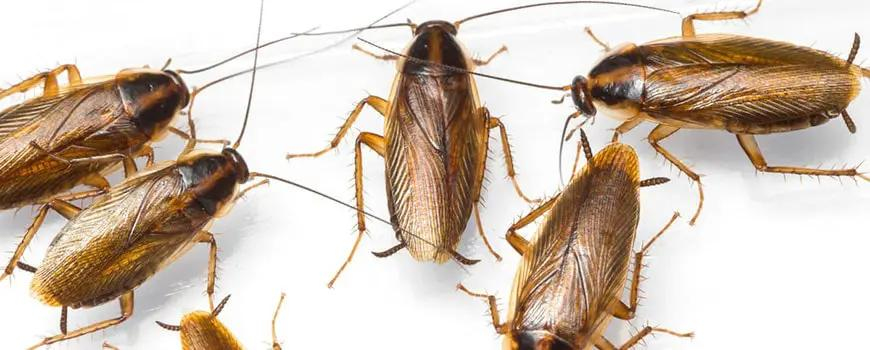cockroach: (556, 25, 866, 148), (32, 140, 252, 311), (498, 136, 642, 348), (374, 12, 490, 272), (2, 58, 194, 210)
